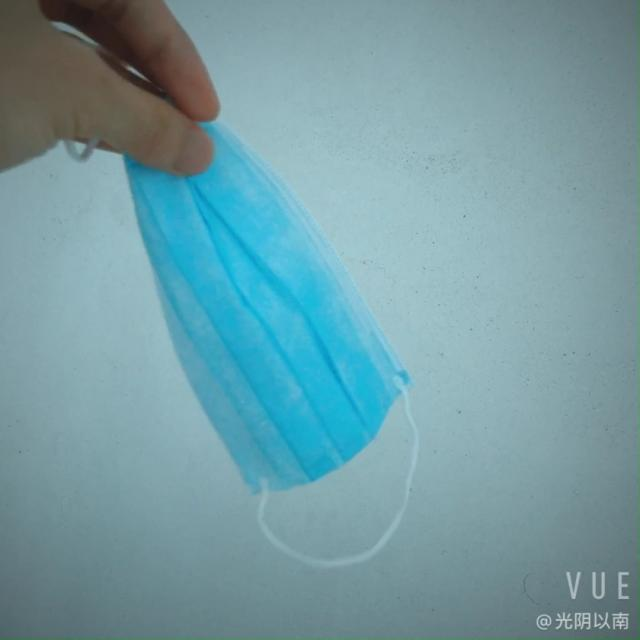face mask: (125, 128, 430, 506)
